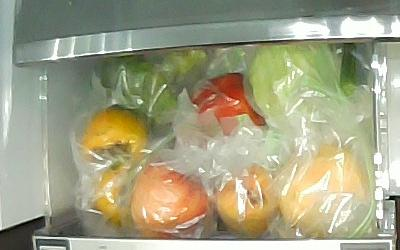apple_vinyl: (129, 164, 209, 236)
broccoli_vinyl: (91, 49, 208, 127)
grapefruit_vinyl: (279, 145, 370, 235)
lettuce_vinyl: (249, 42, 341, 118)
paprika_vinyl: (193, 72, 265, 137)
peach_vinyl: (213, 165, 278, 231)
persimmon_vinyl: (80, 107, 148, 168), (94, 167, 145, 225)
